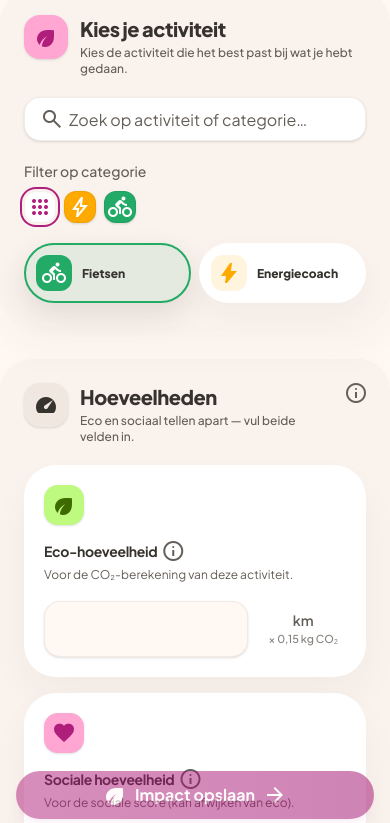
Scenario: RegistrationForm › shows impact preview after valid quantities are entered
Type "10" into the field named "Eco-hoeveelheid" at (146, 628), box left=44, top=600, right=248, bottom=656
(page scrolled)
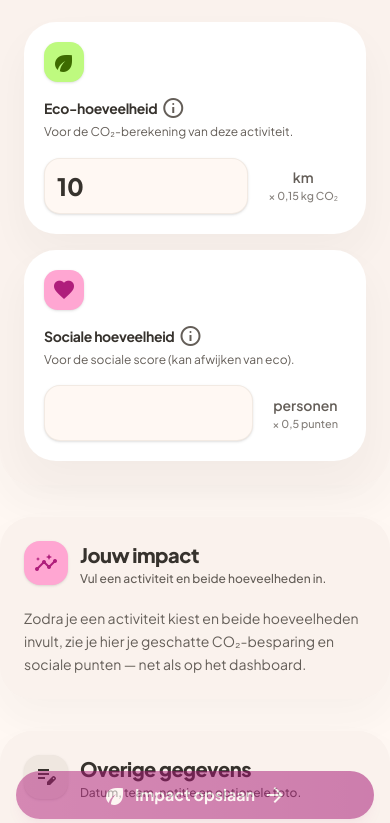
Type "4" into the field named "Sociale hoeveelheid" at (148, 413), box left=44, top=385, right=253, bottom=441
(page scrolled)
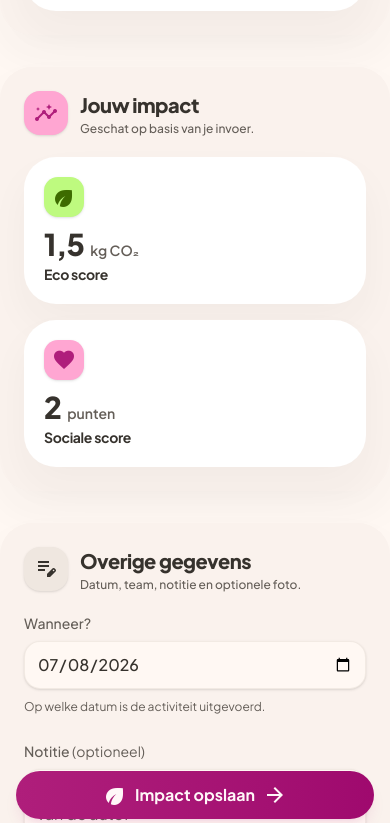
Expected: the heading "Jouw impact" is shown, left=80, top=92, right=199, bottom=117
Now the text "Sociale score" is shown, box left=44, top=428, right=131, bottom=446
